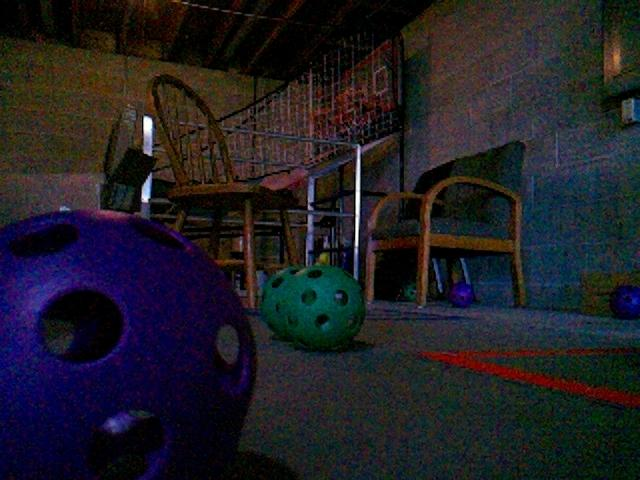Green: (280, 263, 369, 351), (263, 265, 309, 339), (399, 282, 417, 301)
Purple: (0, 209, 259, 480), (608, 284, 640, 319), (448, 281, 475, 308)
